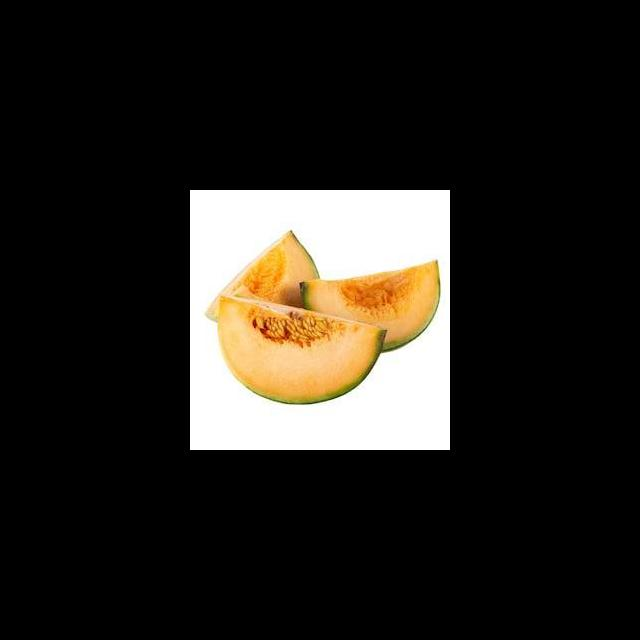Hami Melon: (218, 295, 386, 405), (301, 258, 440, 350), (204, 230, 319, 322)
